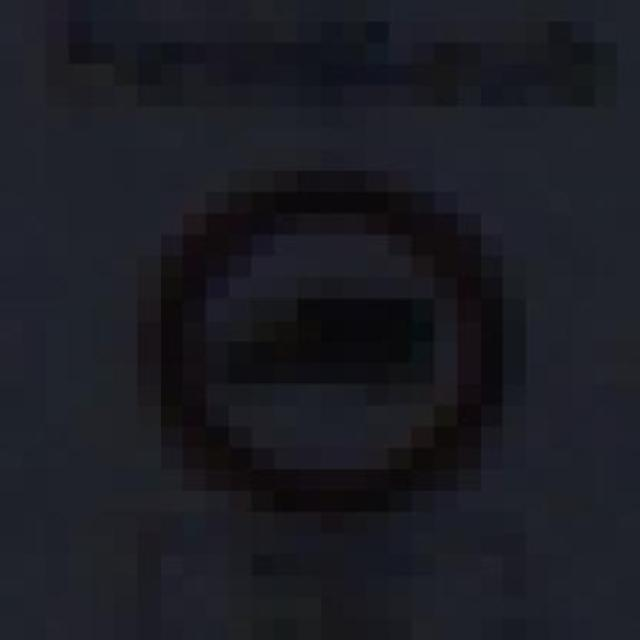Truck traffic is prohibited: (91, 149, 548, 534)
